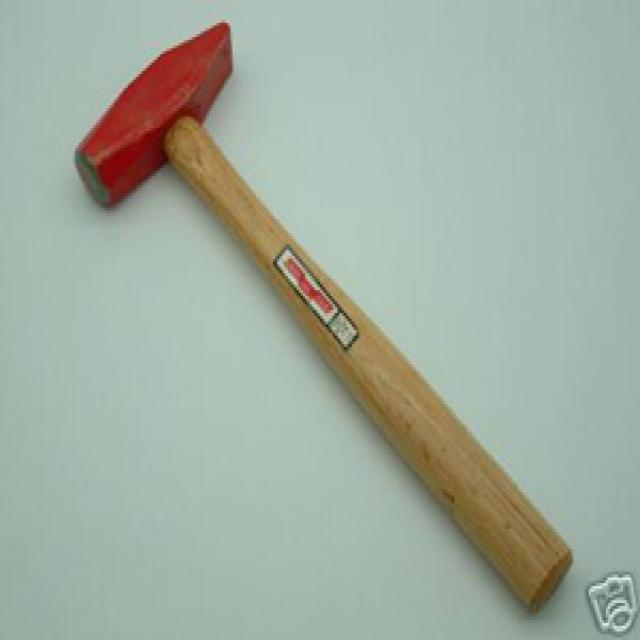hammer: (61, 9, 580, 624)
